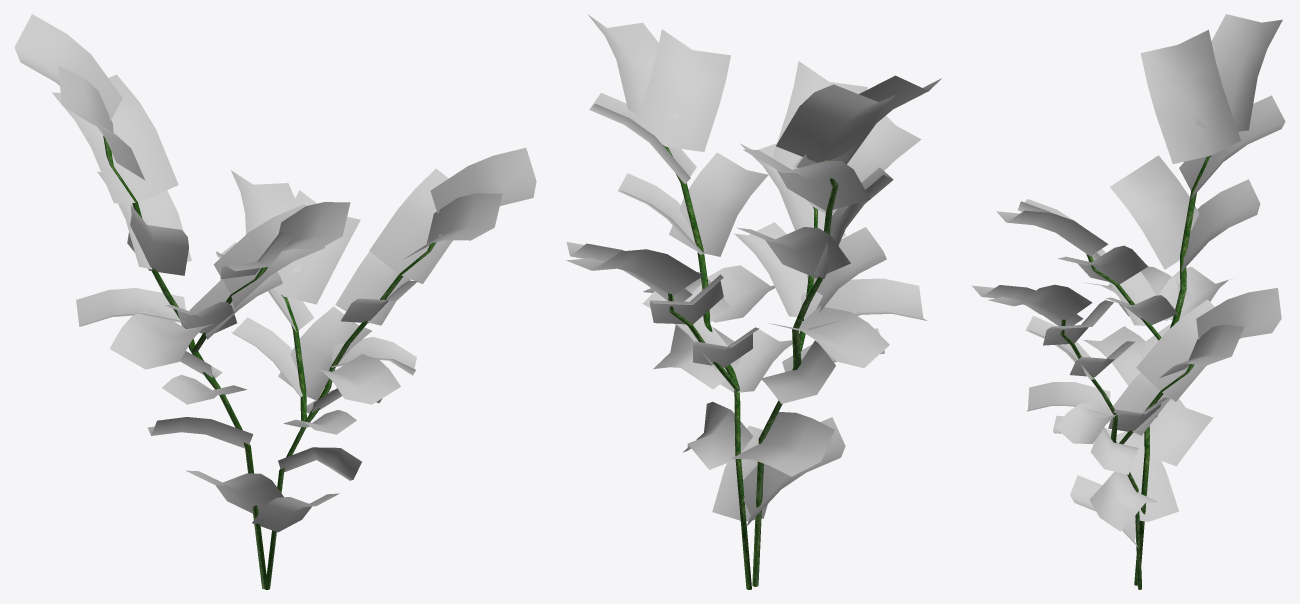
Rendered from plant m2.fbx.
3 renders of one model, left to right at view 1: azimuth 30°, elevation 25°; view 2: azimuth 150°, elevation 25°; view 3: azimuth 270°, elevation 25°, orthographic. The views are drawn at different scales.
Parts seen in each view (by area): view 1: plant_m2_Form26, plant_m2_Group4_Form29, plant_m2_Shape0, plant_m2_Group4_Form28; view 2: plant_m2_Form26, plant_m2_Group4_Form29, plant_m2_Shape0, plant_m2_Group4_Form28; view 3: plant_m2_Form26, plant_m2_Group4_Form29, plant_m2_Shape0, plant_m2_Group4_Form28.
Boxes of the visible parts, left/top/right/bottom form: plant_m2_Form26: left=14, top=14, right=416, bottom=532; plant_m2_Group4_Form29: left=165, top=147, right=536, bottom=400; plant_m2_Shape0: left=103, top=136, right=349, bottom=589; plant_m2_Group4_Form28: left=191, top=242, right=436, bottom=428; plant_m2_Form26: left=643, top=75, right=941, bottom=526; plant_m2_Group4_Form29: left=566, top=14, right=921, bottom=370; plant_m2_Shape0: left=702, top=159, right=838, bottom=589; plant_m2_Group4_Form28: left=663, top=145, right=817, bottom=390; plant_m2_Form26: left=1027, top=14, right=1285, bottom=547; plant_m2_Group4_Form29: left=972, top=199, right=1281, bottom=435; plant_m2_Shape0: left=1102, top=155, right=1211, bottom=589; plant_m2_Group4_Form28: left=1060, top=254, right=1194, bottom=444.
Size of the model in its own units: 46.39 by 61.16 by 34.79.
